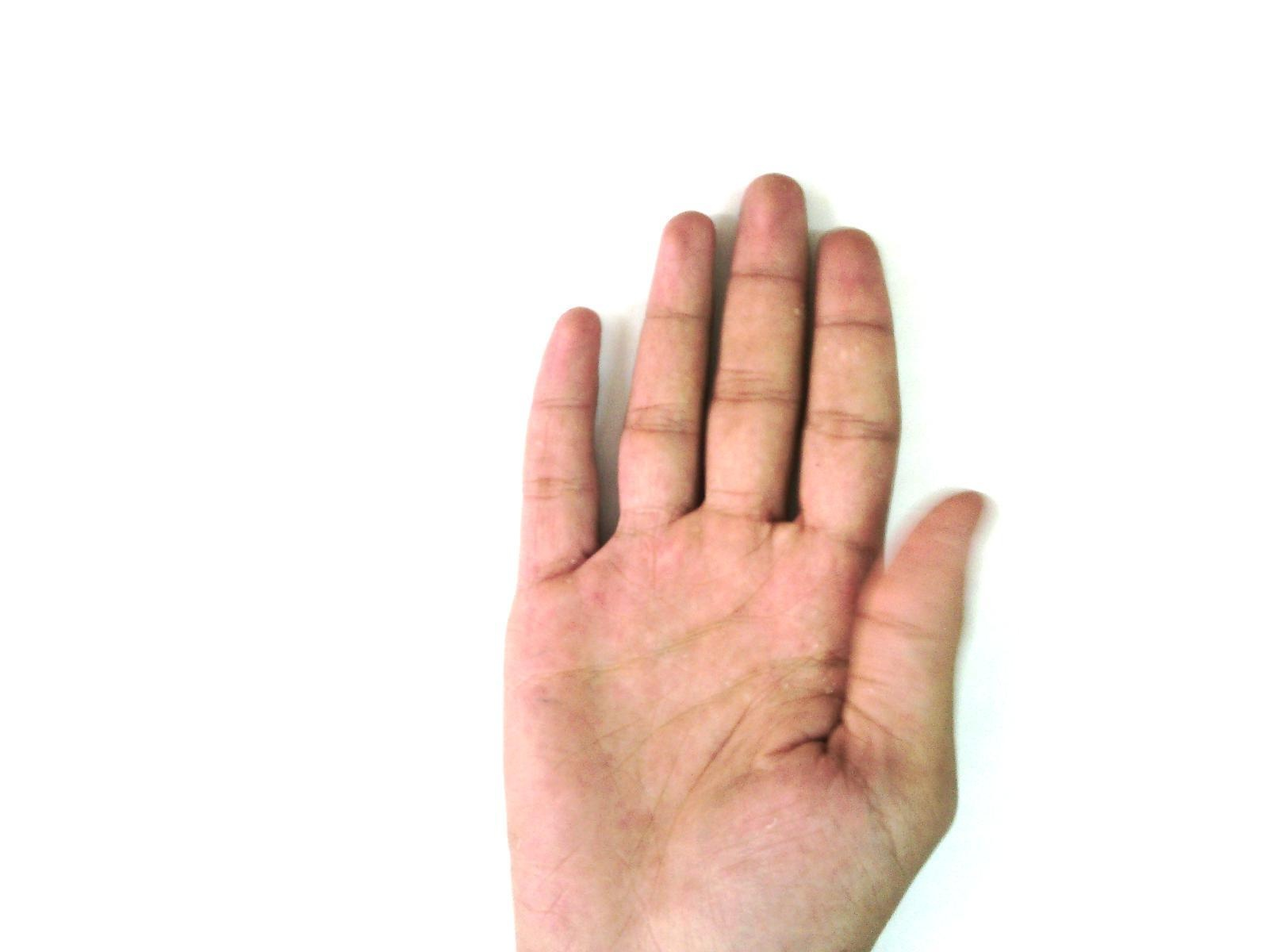open_palm: (498, 172, 998, 951)
